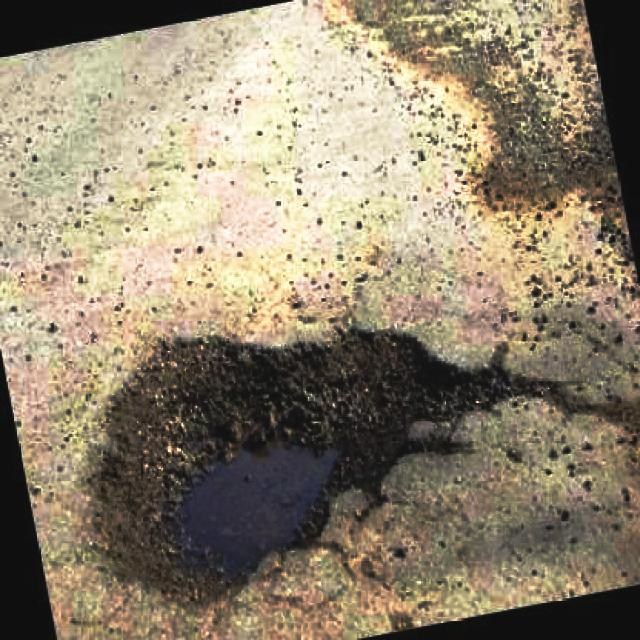pothole: (86, 323, 548, 608)
